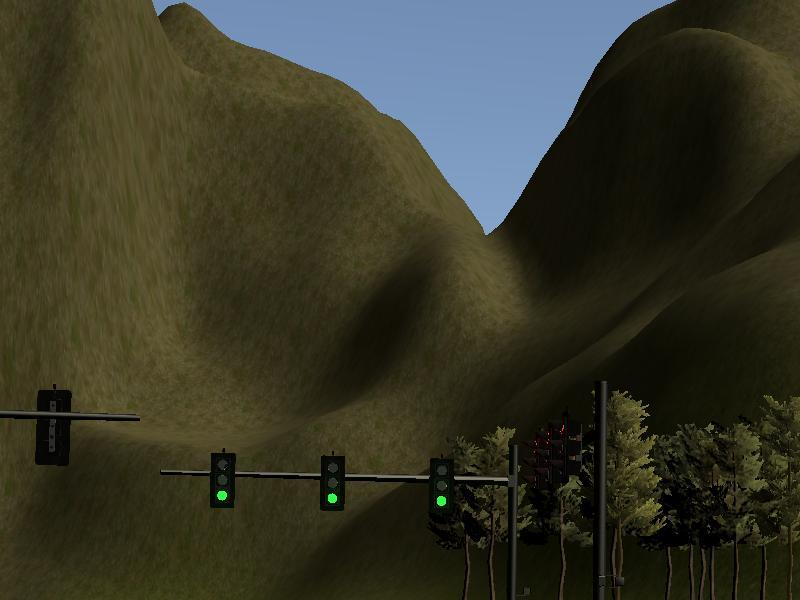Green: (430, 458, 453, 514), (211, 453, 234, 506), (322, 458, 344, 511)
